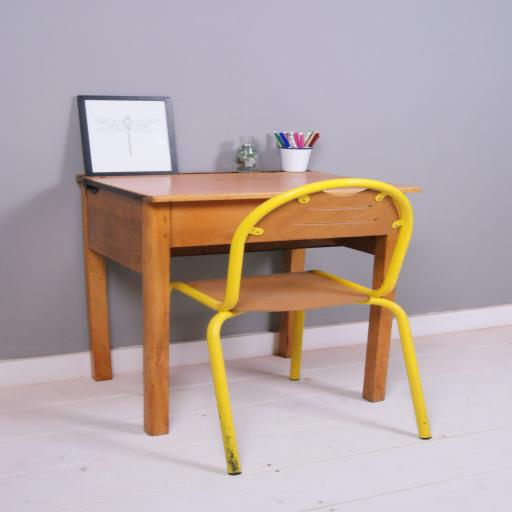chair: (168, 178, 432, 476)
desk: (75, 170, 421, 437)
wall: (0, 0, 512, 387)
